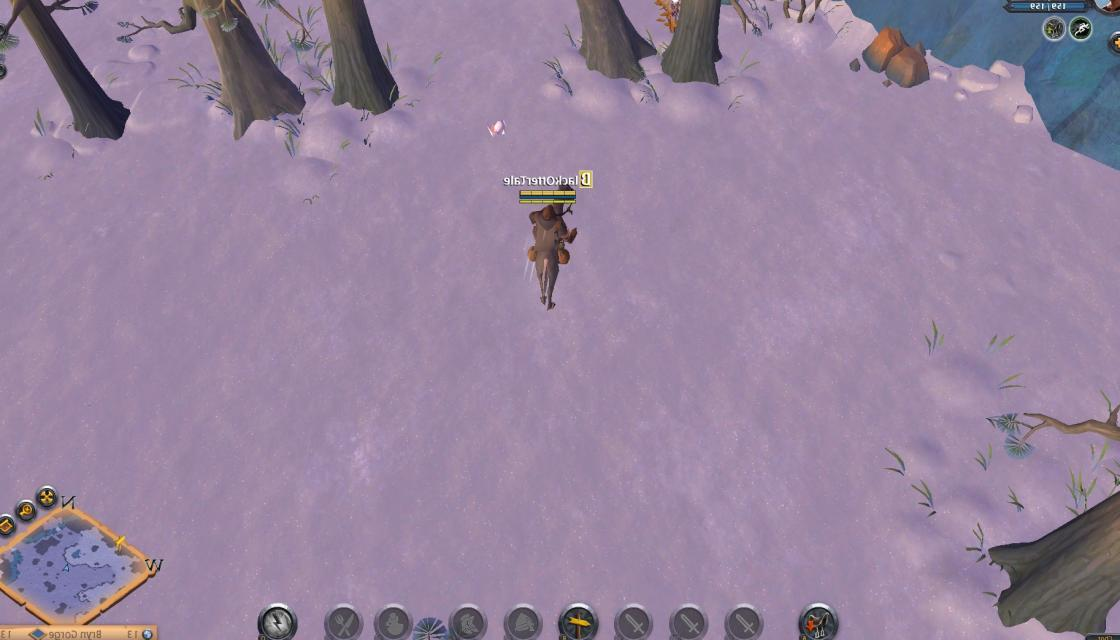limestone: (864, 23, 932, 87)
sandstone: (710, 0, 772, 7)
